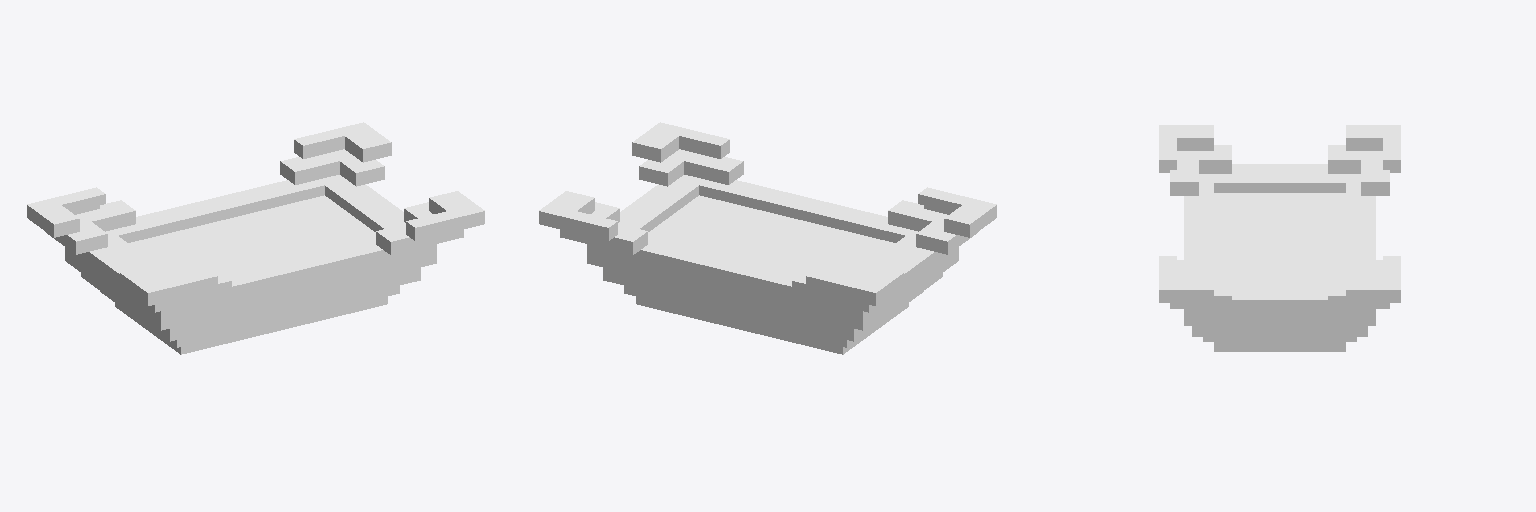
Rendered from papaNoel-11-sleigh.obj.
The picture shows the model from 3 angles: view 1: azimuth 30°, elevation 25°; view 2: azimuth 150°, elevation 25°; view 3: azimuth 270°, elevation 25°; orthographic projection.
Parts seen in each view (by area): view 1: sleigh; view 2: sleigh; view 3: sleigh.
Boxes of the visible parts, <box> form: sleigh: <box>27,122,484,354</box>; sleigh: <box>539,122,996,354</box>; sleigh: <box>1159,125,1400,351</box>.
Size of the model in its own units: 10.6 by 2.9 by 6.6.